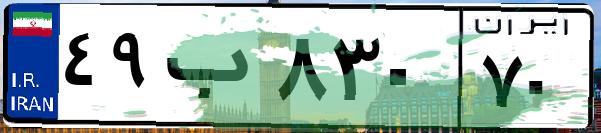0: (385, 28, 445, 110), (525, 38, 570, 115)
3: (330, 28, 385, 110)
4: (57, 26, 110, 100)
7: (475, 38, 525, 113)
8: (270, 28, 330, 110)
9: (110, 28, 158, 98)
ب: (158, 20, 270, 120)
